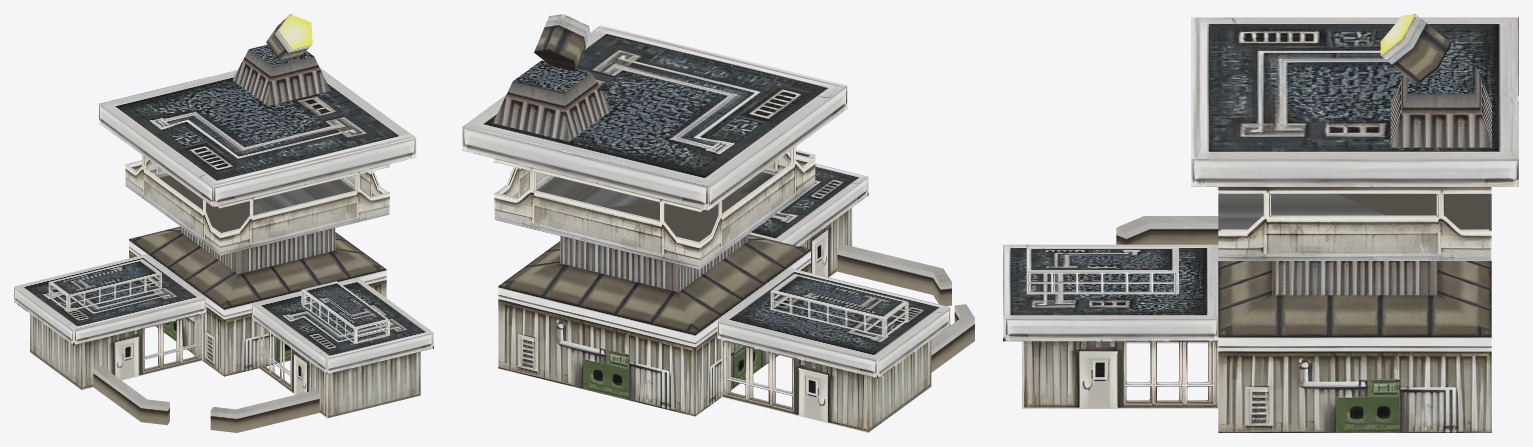
File: s_spotlightcontrol_hdtex.glb
The picture shows the model from 3 angles, left to right: view 1: azimuth 30°, elevation 25°; view 2: azimuth 150°, elevation 25°; view 3: azimuth 270°, elevation 25°; orthographic projection. The views are drawn at different scales.
Parts seen in each view (by area): view 1: S_SpotlightControl, LitWin_SpotlightCon, Light; view 2: S_SpotlightControl, LitWin_SpotlightCon, Light; view 3: S_SpotlightControl, Light, LitWin_SpotlightCon.
Part boxes in pixels (box(x1,y1,x2,y2)): S_SpotlightControl: box(14, 44, 433, 432); LitWin_SpotlightCon: box(50, 156, 387, 387); Light: box(266, 14, 312, 60); S_SpotlightControl: box(462, 25, 974, 432); LitWin_SpotlightCon: box(497, 149, 906, 409); Light: box(534, 14, 590, 71); S_SpotlightControl: box(1003, 17, 1518, 432); Light: box(1380, 14, 1451, 85); LitWin_SpotlightCon: box(1029, 194, 1488, 403).
Size of the model in its own units: 18.97 by 16.05 by 18.76.
1 material, 1 textured.
